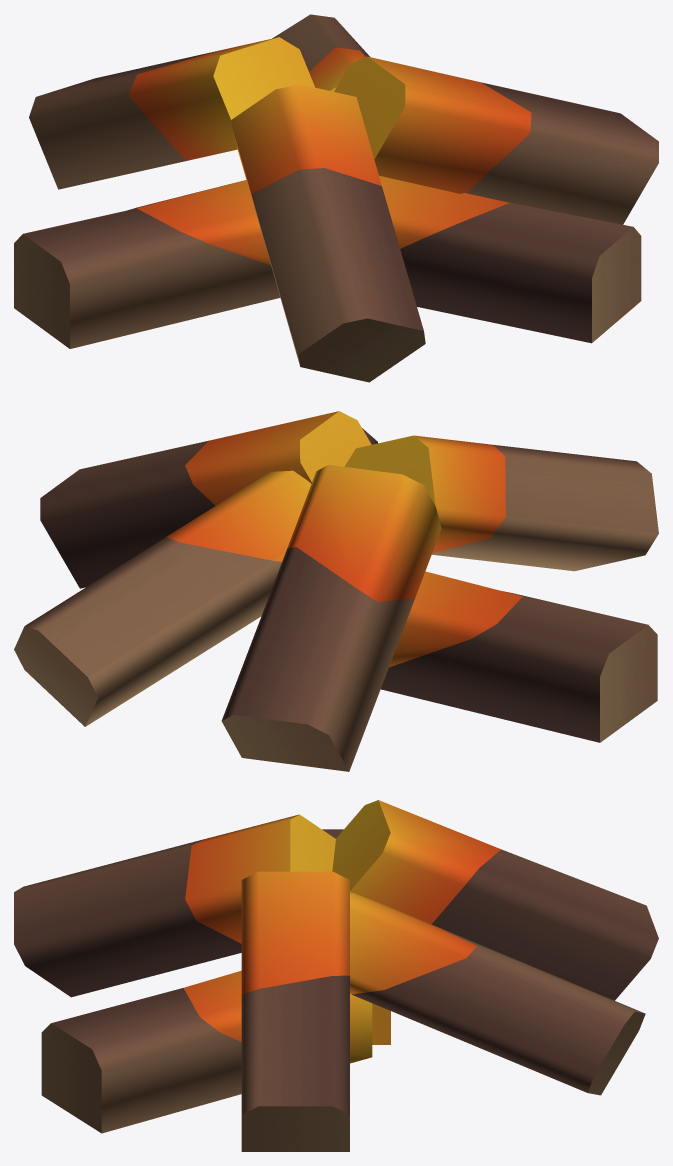
Rendered from fire.fbx.
3 renders of one model, top to bottom at view 1: azimuth 30°, elevation 25°; view 2: azimuth 150°, elevation 25°; view 3: azimuth 270°, elevation 25°, orthographic. The views are drawn at different scales.
Parts seen in each view (by area): view 1: fire; view 2: fire; view 3: fire.
Boxes of the visible parts, x1=… form: fire: x1=14, y1=14, x2=658, y2=382; fire: x1=14, y1=411, x2=658, y2=771; fire: x1=14, y1=800, x2=658, y2=1151.
Size of the model in its own units: 74.72 by 26.02 by 74.76.
